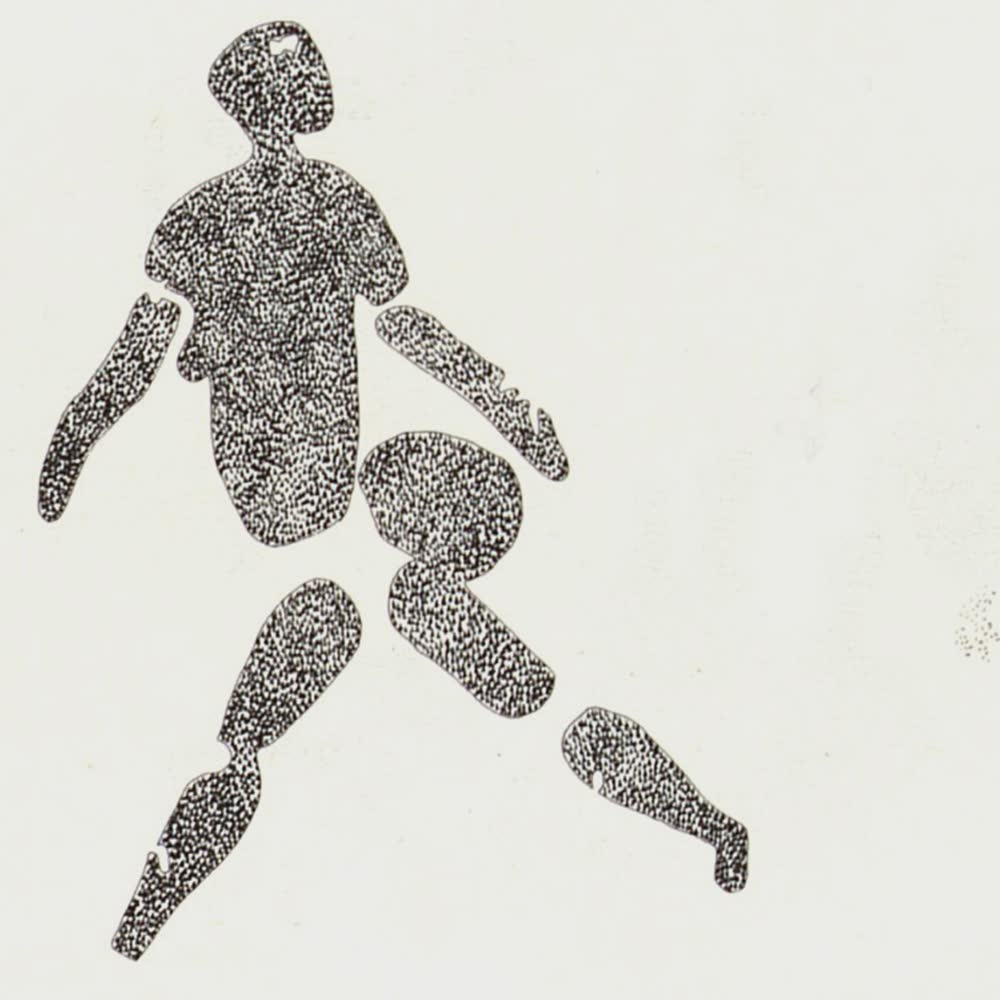woman: (37, 19, 755, 963)
